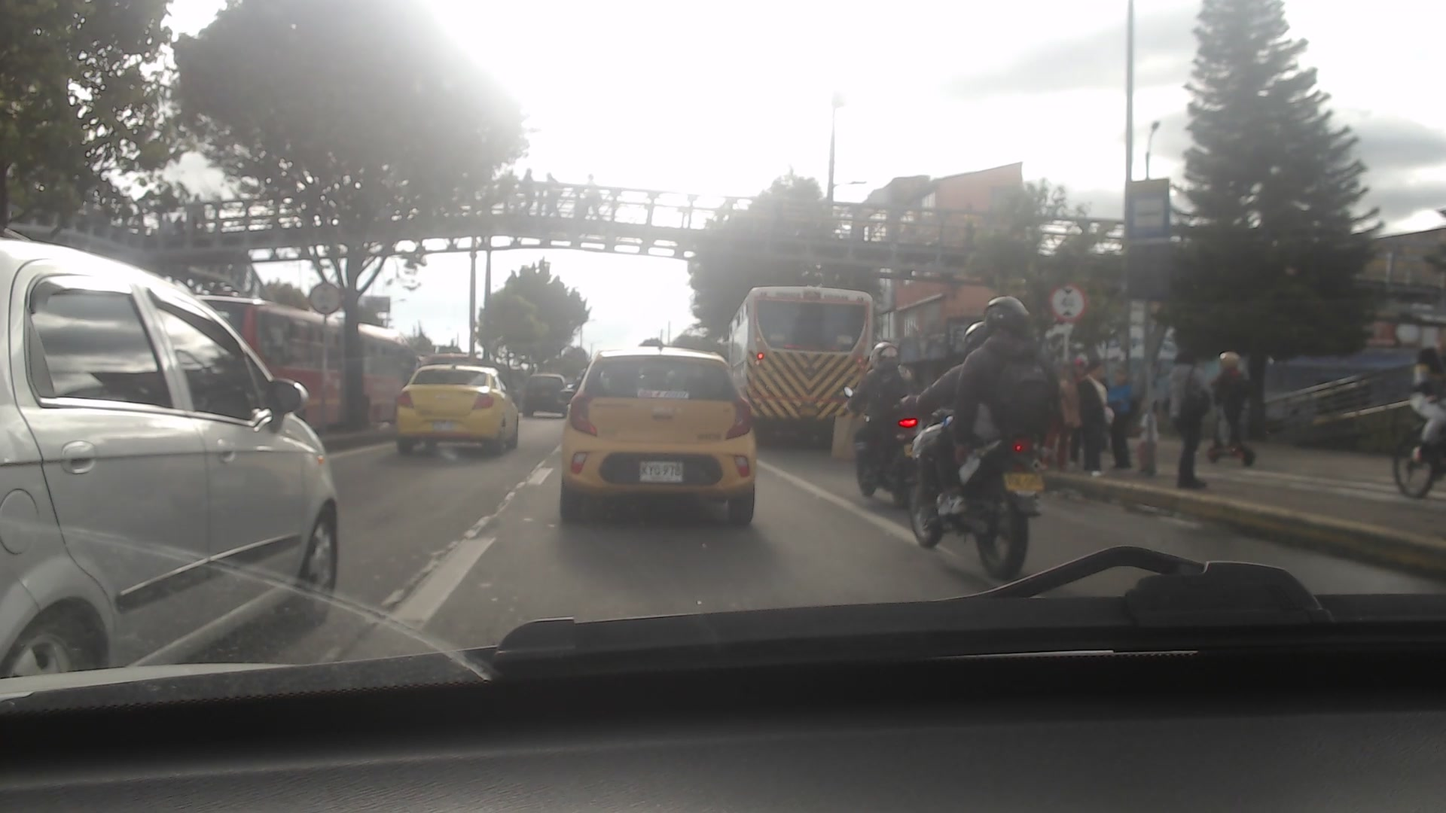bus: (722, 283, 880, 434)
car: (1, 236, 354, 673), (551, 352, 756, 527), (395, 365, 523, 454), (520, 371, 569, 423)
person: (956, 291, 1050, 444), (1160, 347, 1216, 496), (857, 342, 917, 444), (1099, 366, 1139, 469), (1077, 353, 1110, 477), (1210, 350, 1247, 456)
